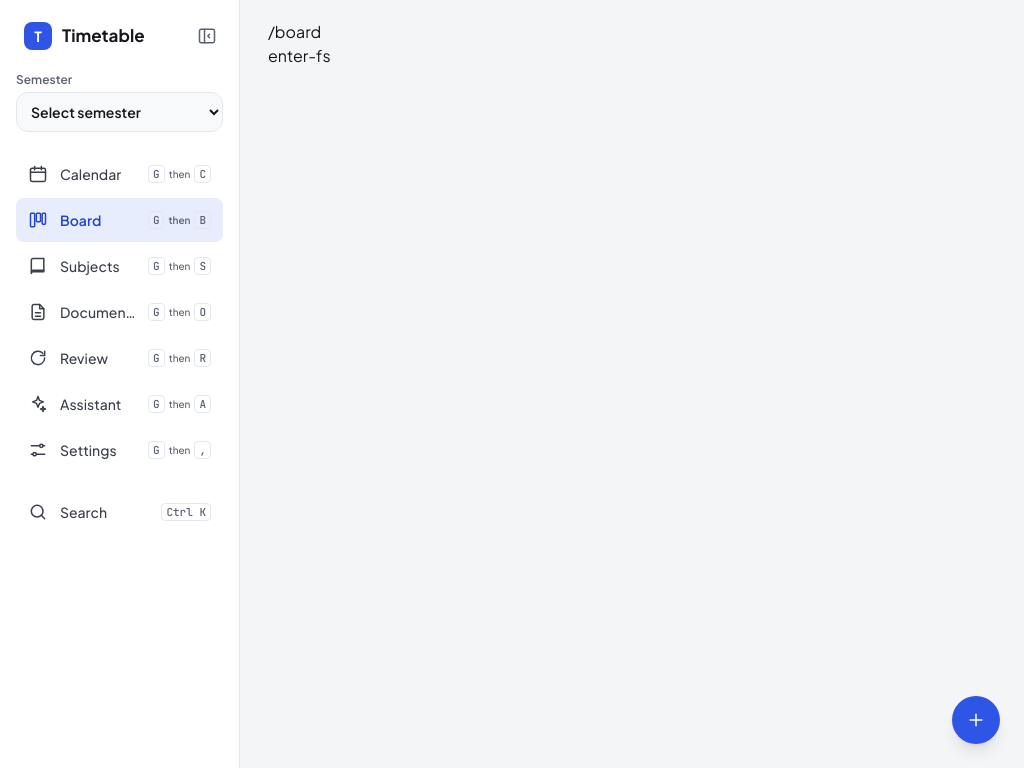
quick-action button › New event opens the calendar's new-event popup for today
Click the button named "Quick actions": [976, 720] box 952,696 -> 1000,744
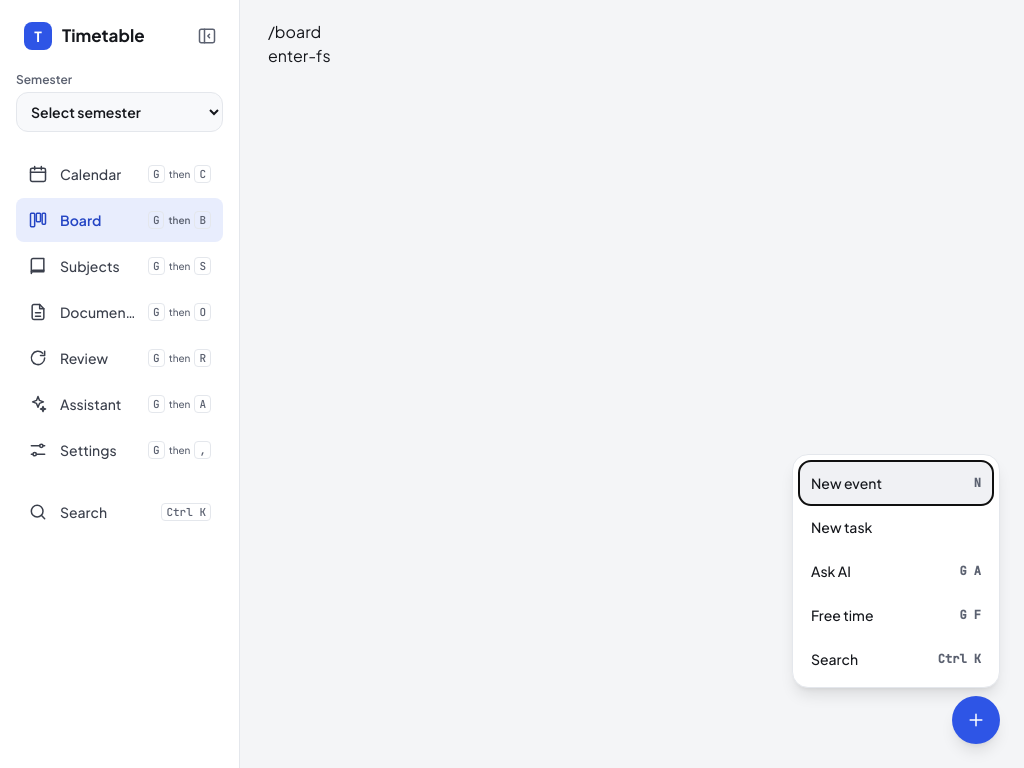
Click the menu item "New event N": [896, 483] box 799,461 -> 993,505
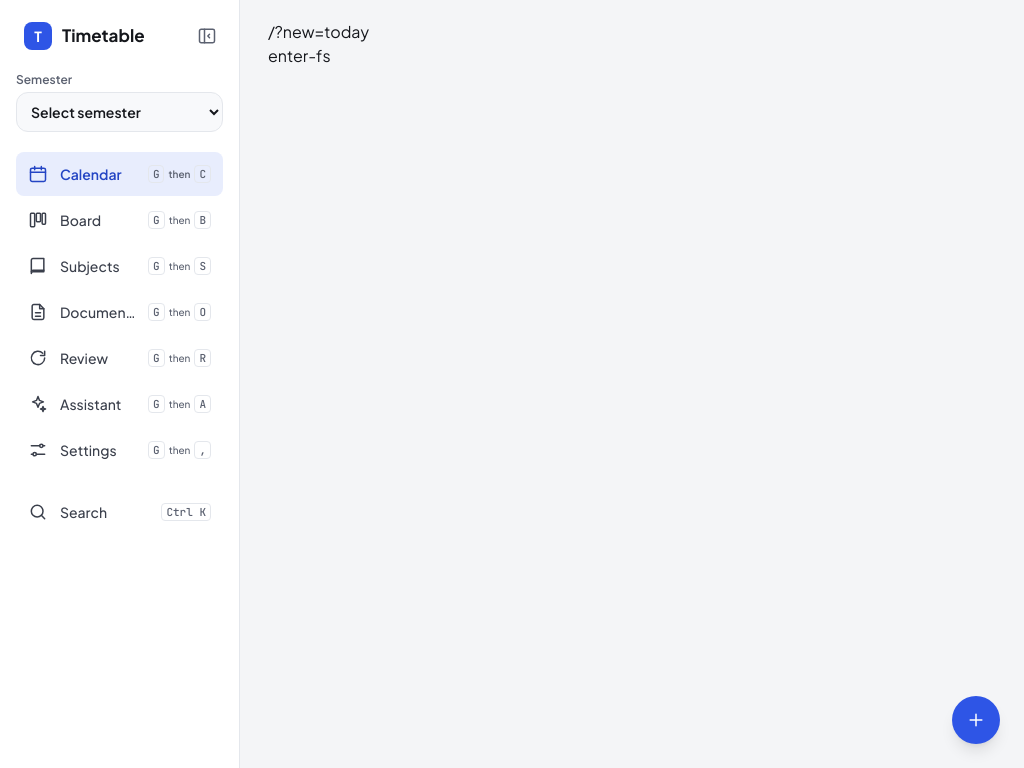
Check: the text with test id "where" reads "/?new=today", box 268,21 -> 369,42
Check: the menu is gone
